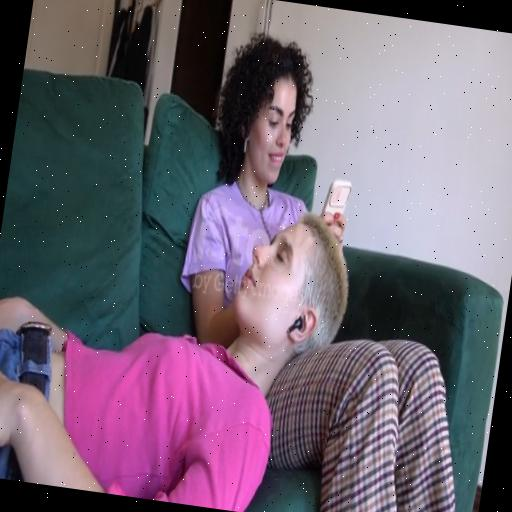earphone: (286, 314, 305, 340)
